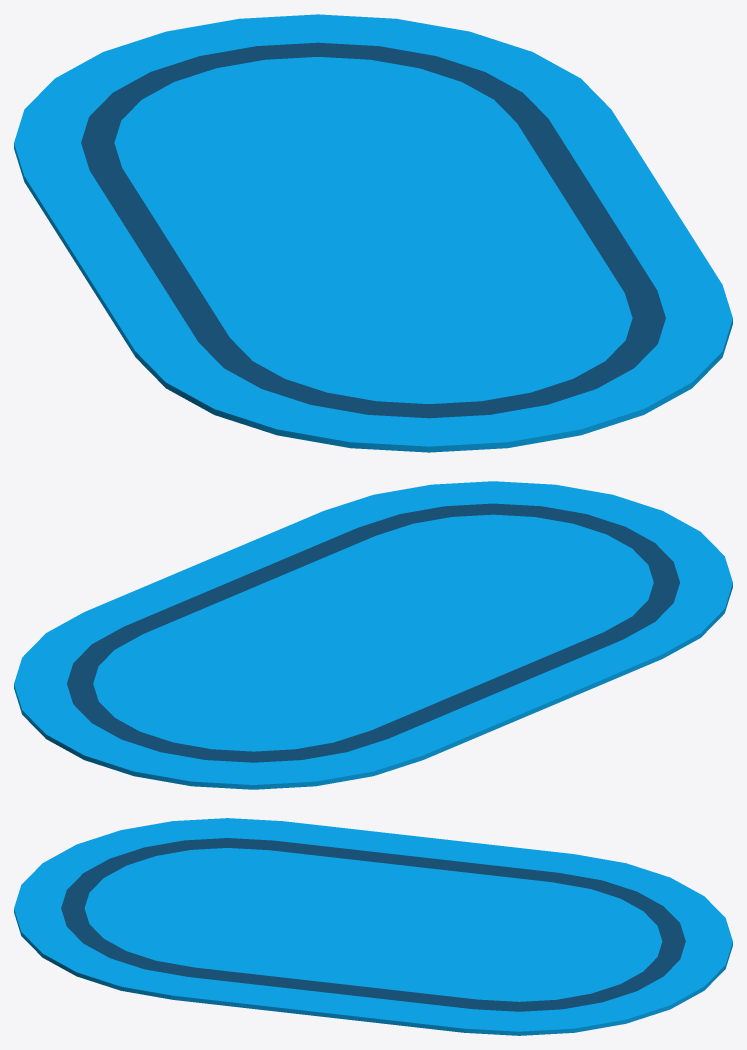
3 views of the same model, one above another, from view 1: azimuth 30°, elevation 25°; view 2: azimuth 150°, elevation 25°; view 3: azimuth 270°, elevation 25° (orthographic). The views are drawn at different scales.
Parts seen in each view (by area): view 1: mergedBlocks(Clone); view 2: mergedBlocks(Clone); view 3: mergedBlocks(Clone).
Boxes of the visible parts, x1,y1,x2,y2 form: mergedBlocks(Clone): (14, 14, 732, 452); mergedBlocks(Clone): (14, 481, 732, 789); mergedBlocks(Clone): (14, 818, 732, 1035).
Bounding box in the file's own units: 1.63 × 0.015 × 2.32.
